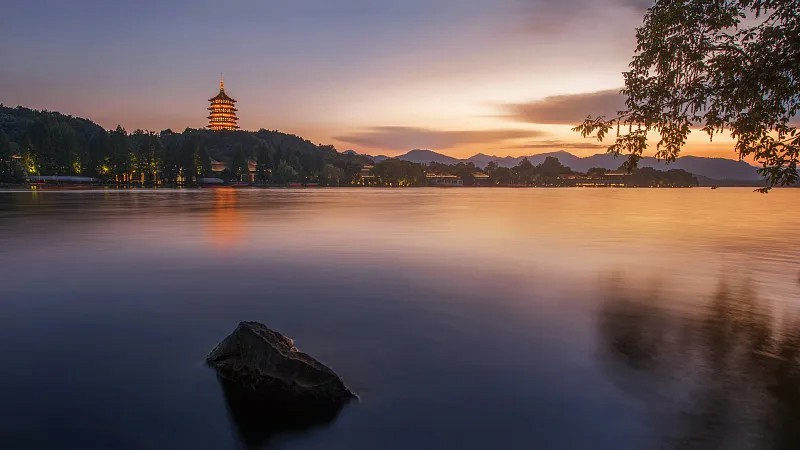Leifeng: (206, 72, 240, 131)
